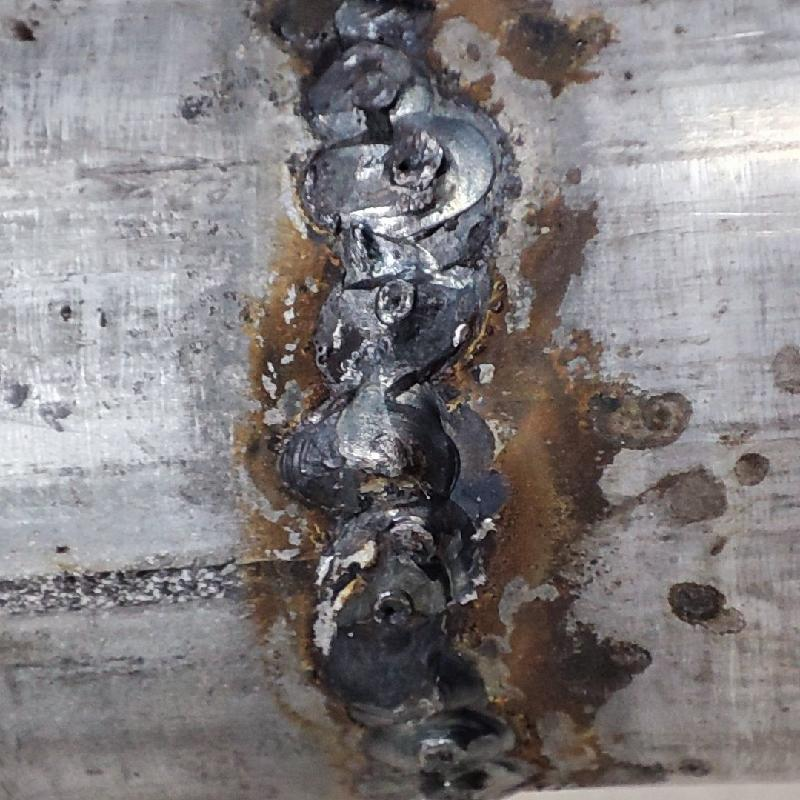Surface_pores: (364, 590, 416, 624), (377, 280, 416, 325)
wrong_size: (283, 3, 543, 795)
